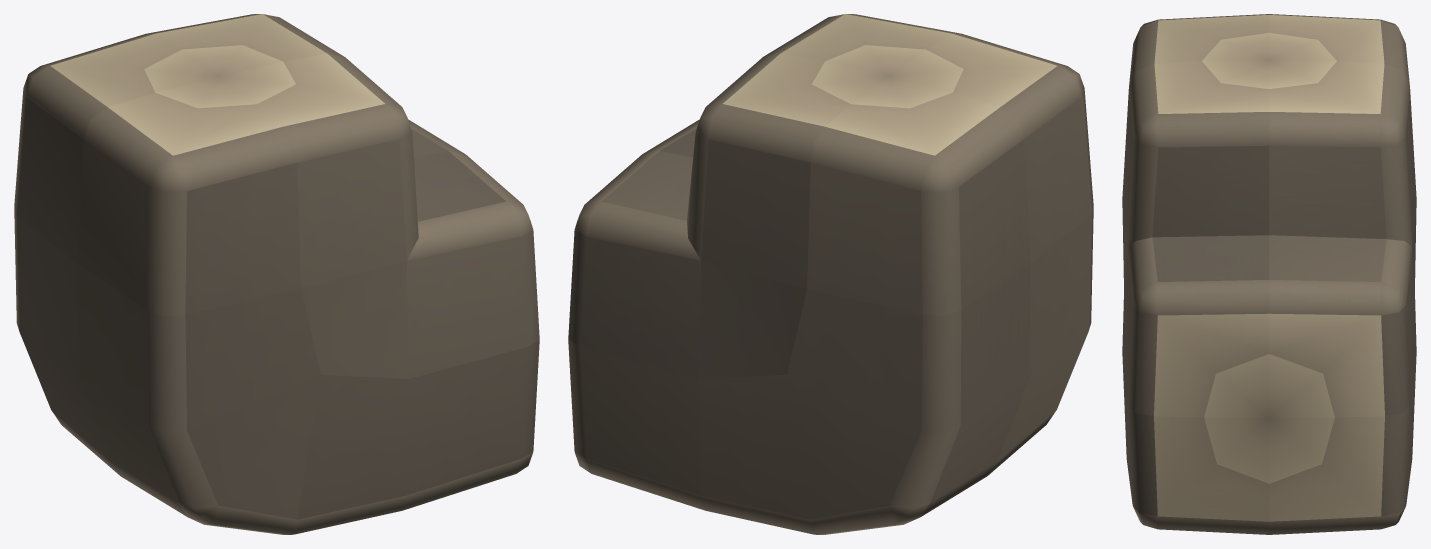
File: DryWood_Branch_Corner.fbx
The picture shows the model from 3 angles, left to right: view 1: azimuth 30°, elevation 25°; view 2: azimuth 150°, elevation 25°; view 3: azimuth 270°, elevation 25°; orthographic projection. The views are drawn at different scales.
Visible parts, largest first — view 1: DryWood_Branch_Corner_LOD0; view 2: DryWood_Branch_Corner_LOD0; view 3: DryWood_Branch_Corner_LOD0.
Part boxes in pixels (bbox=[...]): DryWood_Branch_Corner_LOD0: bbox=[14, 14, 539, 534]; DryWood_Branch_Corner_LOD0: bbox=[568, 14, 1093, 534]; DryWood_Branch_Corner_LOD0: bbox=[1122, 14, 1416, 534].
Size of what is drawn, in the model's own units: 0.8291 by 0.8301 by 0.5858.
